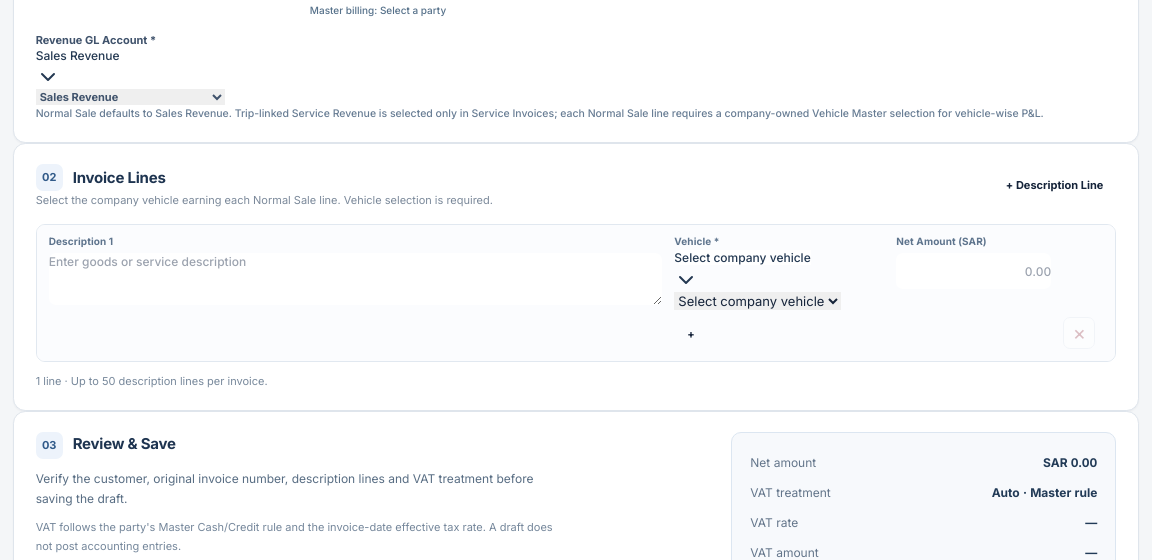
Test case: Normal Transport Sales and Purchase UI, without Trip linkage › shows Sale VAT rate, VAT amount and gross using the effective company rate
This screenshot has width=1152, height=560.
(page scrolled)
Expected: the dropdown named "Normal invoice ledger account" shows "Sales Revenue", [36, 89, 225, 105]
Select "7979" in the dropdown named "Vehicle 1" at (758, 301), box [674, 292, 841, 310]
(page scrolled)
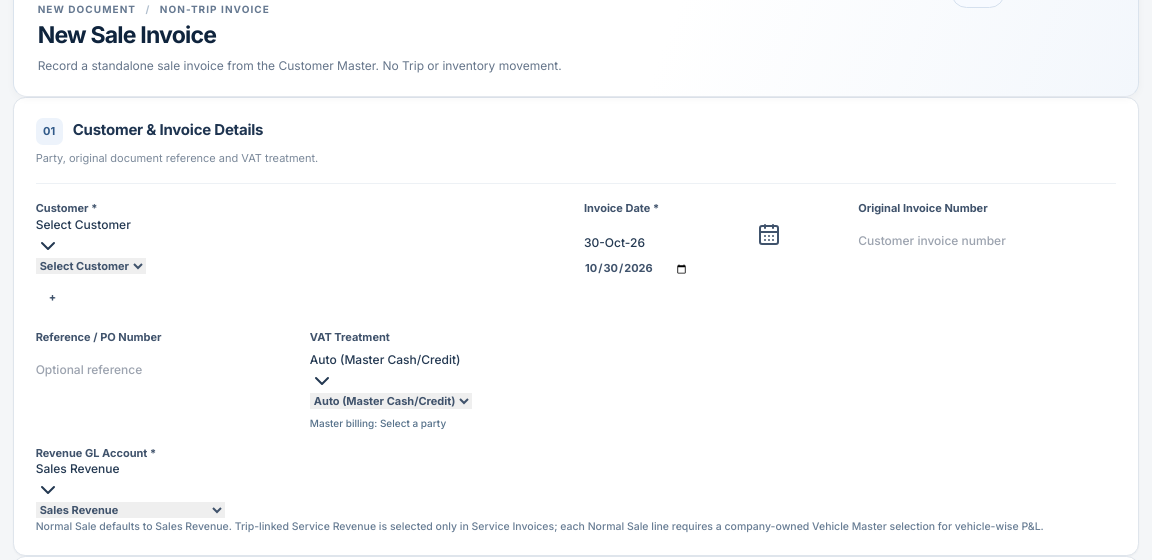
Select "Master a" in the dropdown named "Normal invoice customer" at (91, 266), box [36, 258, 146, 274]
(page scrolled)
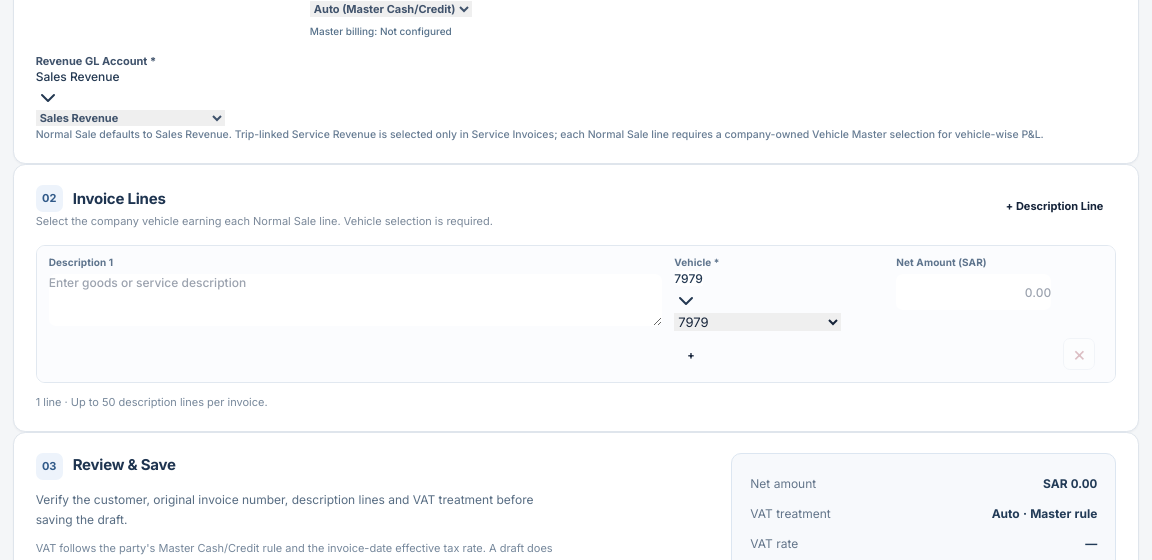
Type "Service" into the text box labelled "Description 1".
click(356, 300); type("Service")  # box [49, 274, 662, 326]
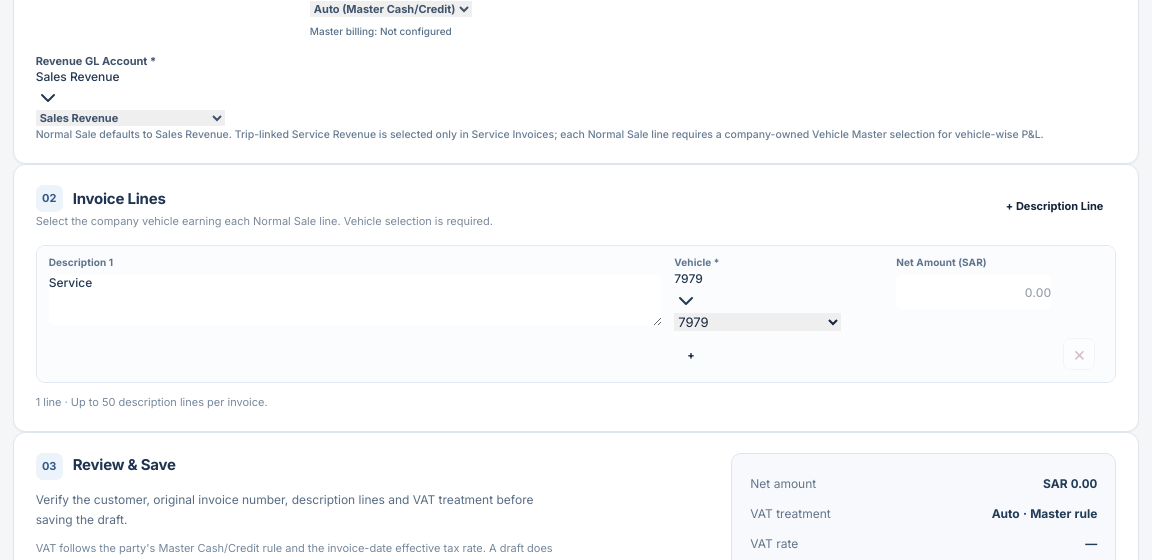
Type "100" into the field named "Amount 1".
click(974, 292); type("100")  # box [896, 274, 1051, 310]
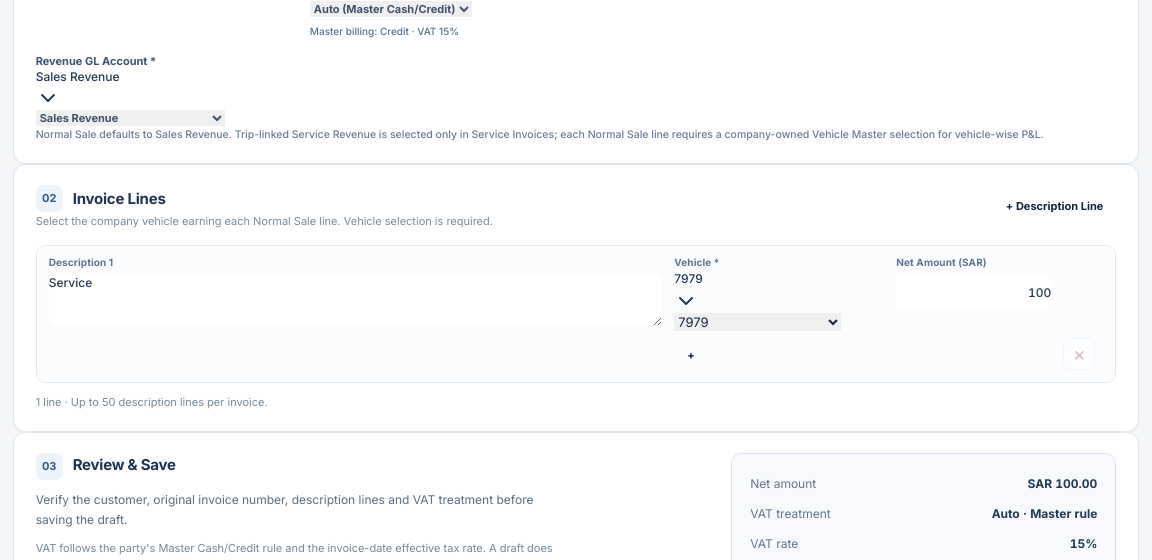
Expected: the text "Master billing: Credit · VAT 15%" is shown, [310, 25, 459, 37]
